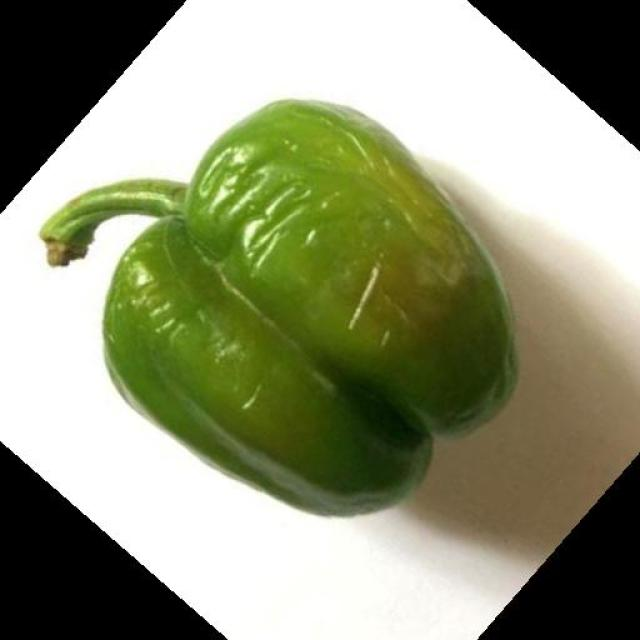Stale_Capsicum: (107, 84, 502, 522)
